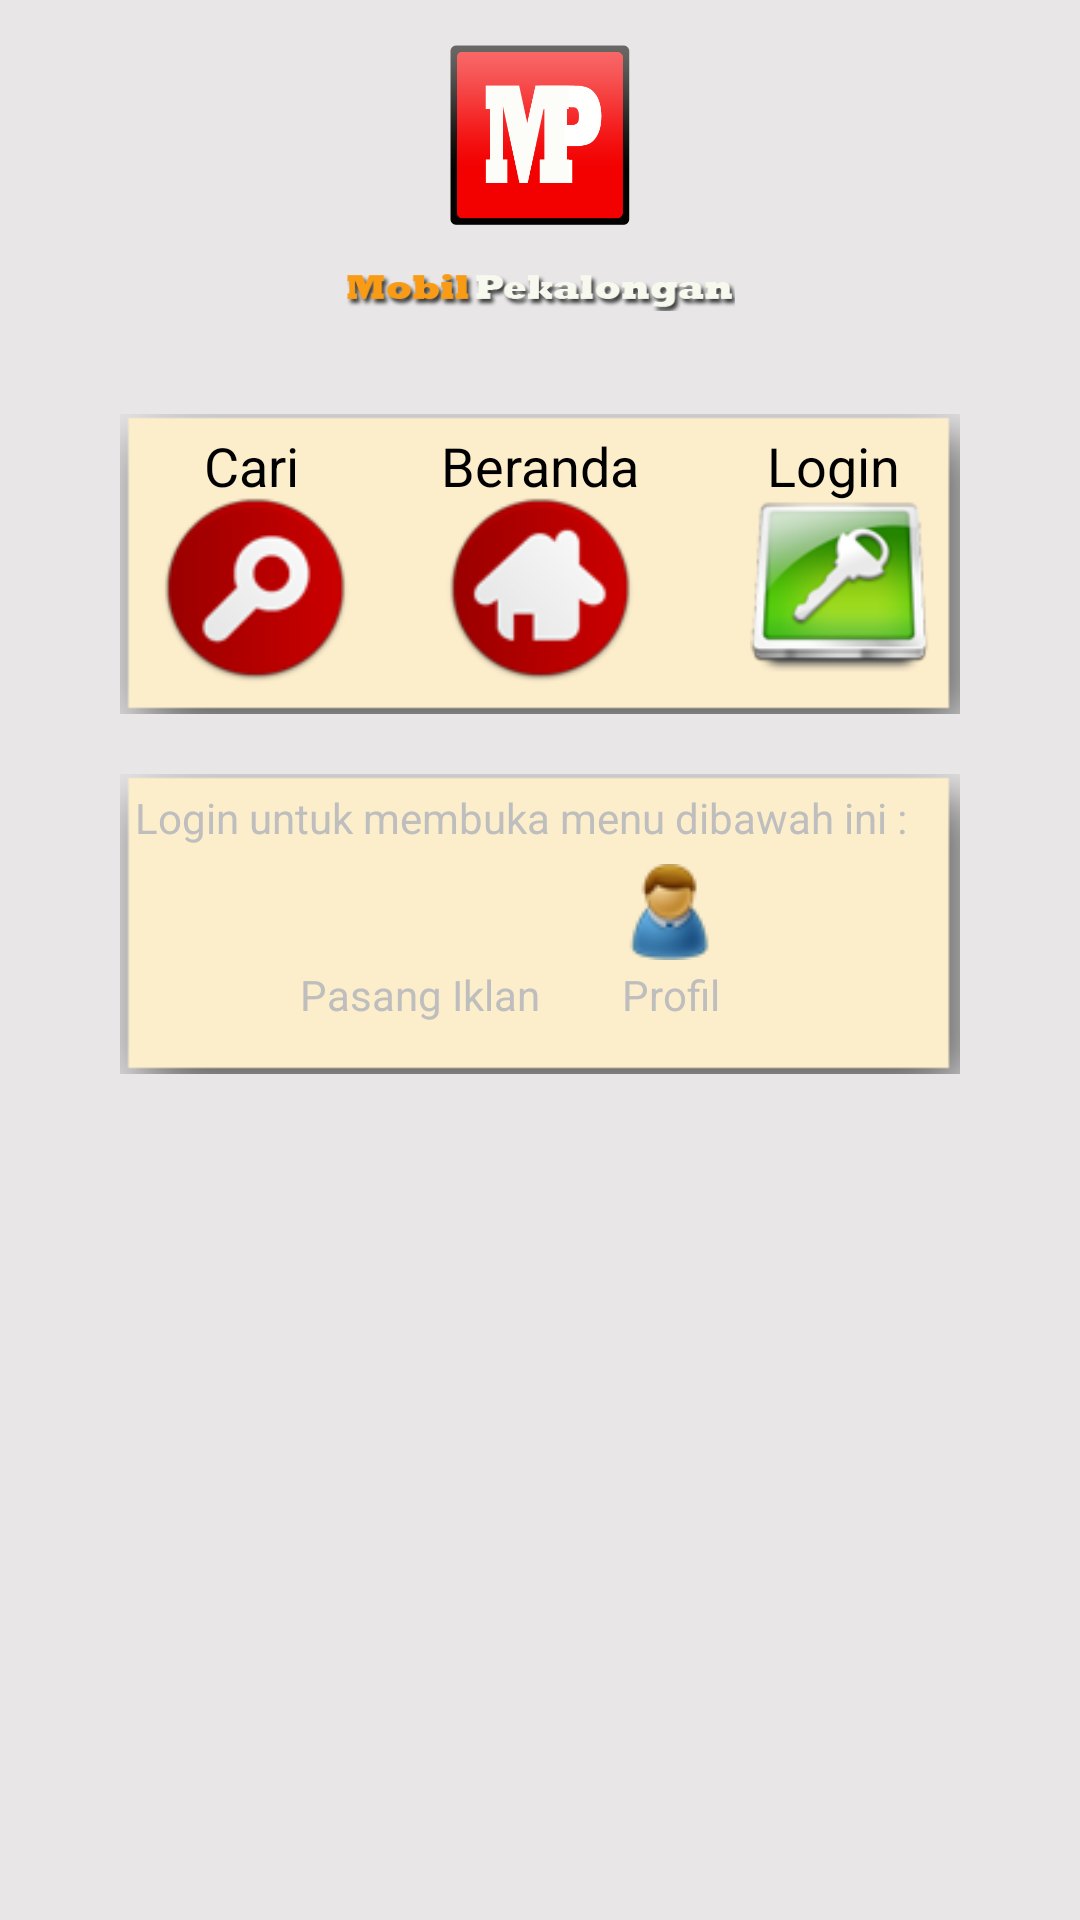

Screen size 1080 x 1920. Icon name, then its center in pixels as point (x, y):
user male: point (670, 912)
